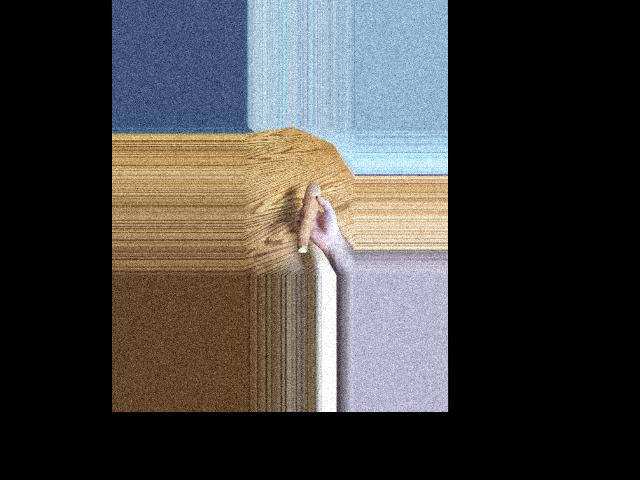sweet_potato: (296, 178, 318, 250)
